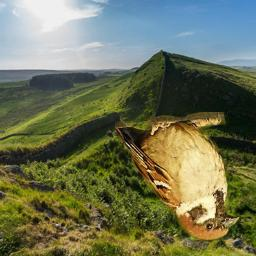Sparrow: (115, 112, 241, 242)
